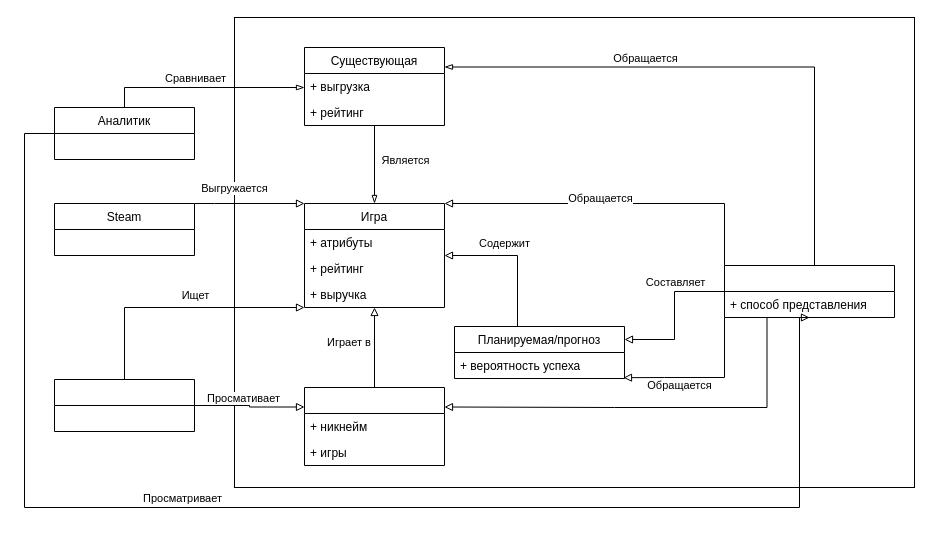
Some shapes in this 932 by 533 pixel diagram are drawn without their labels. Here are the shapes that lost their labels. From the top down, the box of each, then its label:
(724, 264, 894, 318): Аналитика
(54, 378, 194, 432): Игрок
(304, 386, 444, 466): Пользователь Steam
